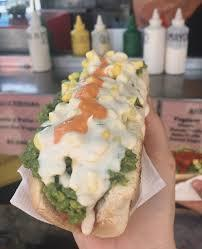Completos: (28, 27, 149, 231)
